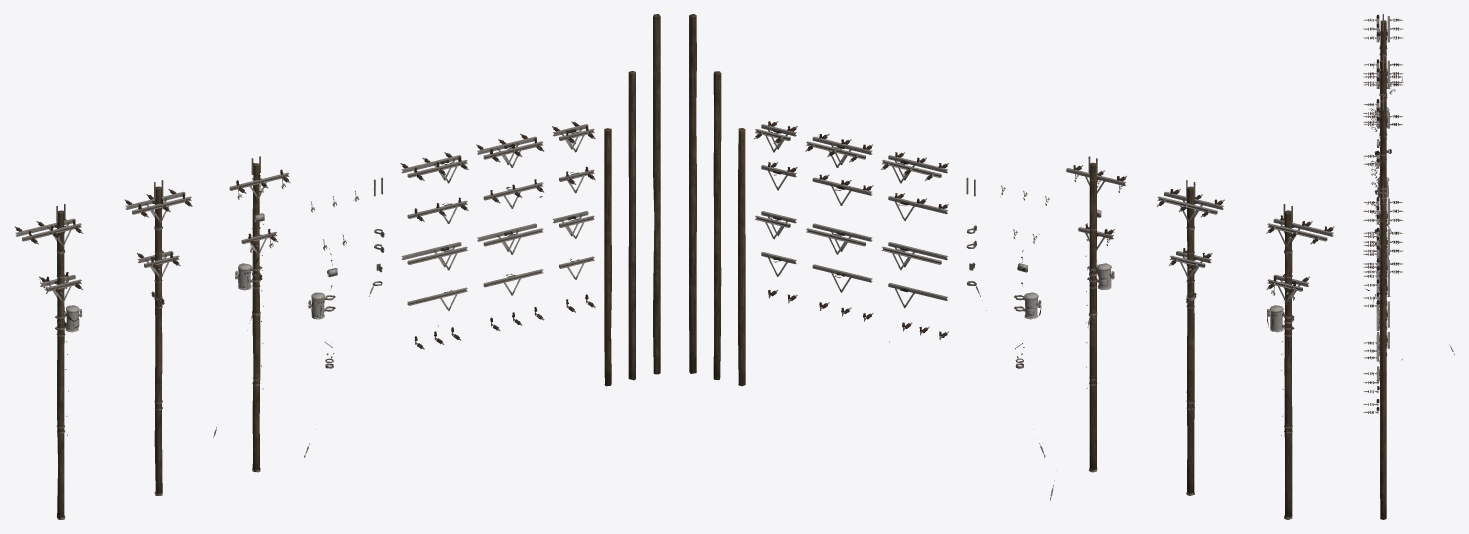
Rendered from modular_electricity_poles.glb.
The picture shows the model from 3 angles, left to right: view 1: azimuth 30°, elevation 25°; view 2: azimuth 150°, elevation 25°; view 3: azimuth 270°, elevation 25°; orthographic projection. The views are drawn at different scales.
Visible parts, largest first — view 1: pole, bolt_large; view 2: pole, bolt_large; view 3: bolt_large, pole.
Boxes of the visible parts, x1,y1,x2,y2 form: pole: [57, 14, 660, 519]; bolt_large: [14, 121, 595, 519]; pole: [689, 14, 1292, 518]; bolt_large: [754, 121, 1334, 519]; bolt_large: [1363, 14, 1454, 413]; pole: [1380, 20, 1386, 519].
Size of the model in its own units: 13.12 by 7 by 1.94.
2 materials, 2 textured.
